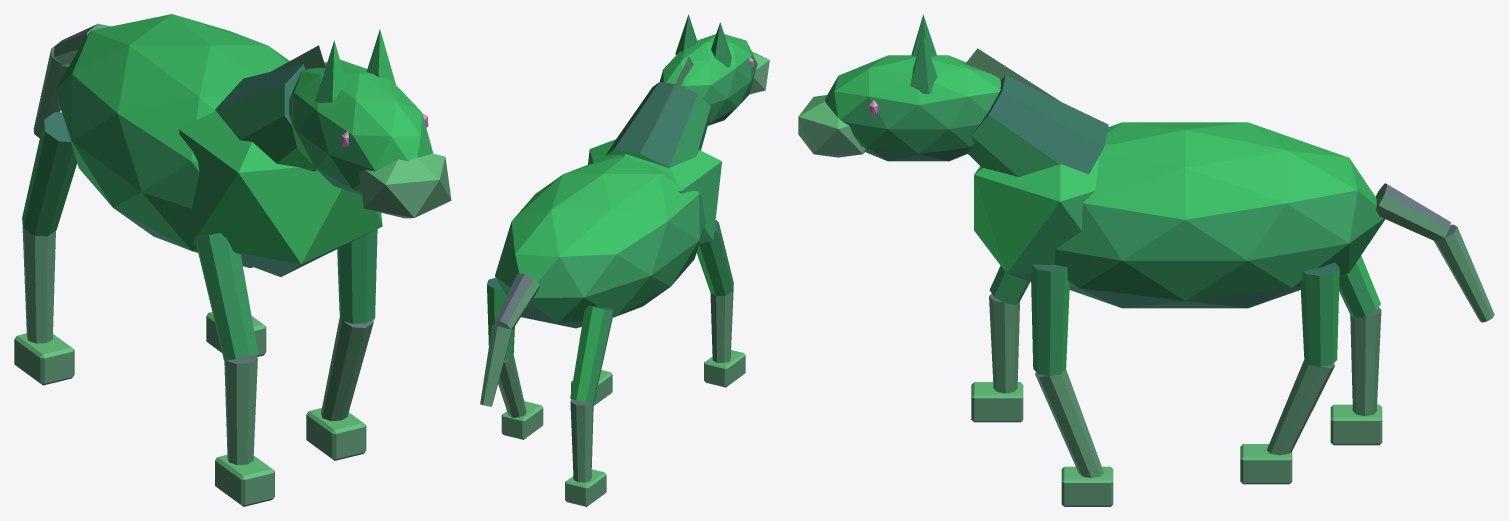
The model's file is creature_horse_down_a_v01.glb.
3 views of the same model, side by side, from view 1: azimuth 30°, elevation 25°; view 2: azimuth 150°, elevation 25°; view 3: azimuth 270°, elevation 25° (orthographic). The views are drawn at different scales.
Parts seen in each view (by area): view 1: GEO_creature_horse_down_a_v01; view 2: GEO_creature_horse_down_a_v01; view 3: GEO_creature_horse_down_a_v01.
Boxes of the visible parts, x1,y1,x2,y2 form: GEO_creature_horse_down_a_v01: (14, 14, 451, 506); GEO_creature_horse_down_a_v01: (480, 14, 769, 506); GEO_creature_horse_down_a_v01: (798, 14, 1494, 506).
Bounding box in the file's own units: 0.913 × 2.09 × 2.95.
